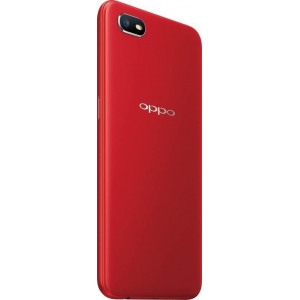Handphone: (88, 1, 210, 300)
